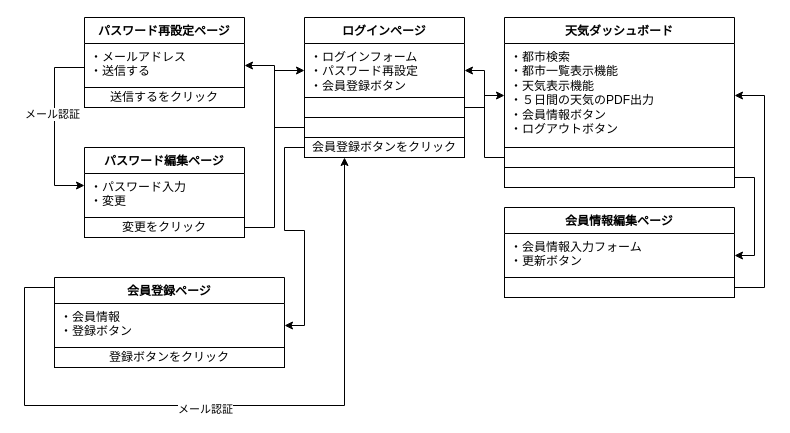
This 790x433 diagram has some shape labels left out. Here are the shapes that lost their labels. From the top down, the centre of each, then its label:
[384,107]: ログイン
[384,127]: パスワード再設定をクリック
[619,157]: ロブアウトボタンをクリック
[619,177]: 会員情報ボタンをクリック
[619,287]: 更新ボタンをクリック
